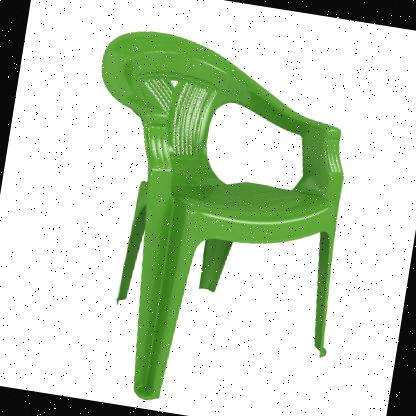chair: (41, 11, 378, 416)
